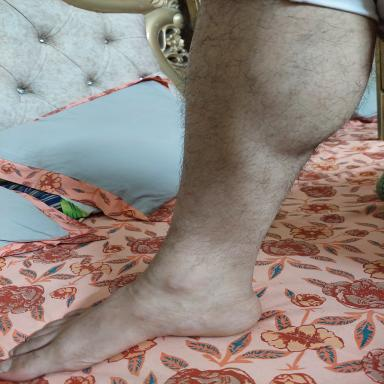normal skin: (1, 0, 375, 381)
